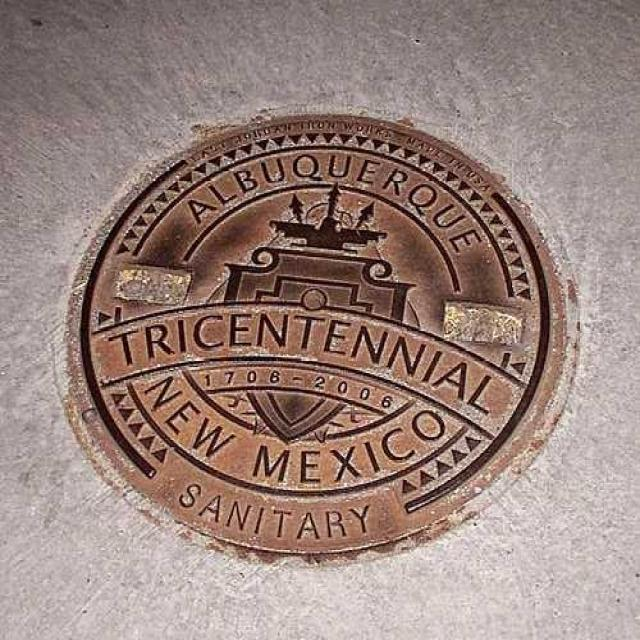manhole: (67, 116, 576, 555)
